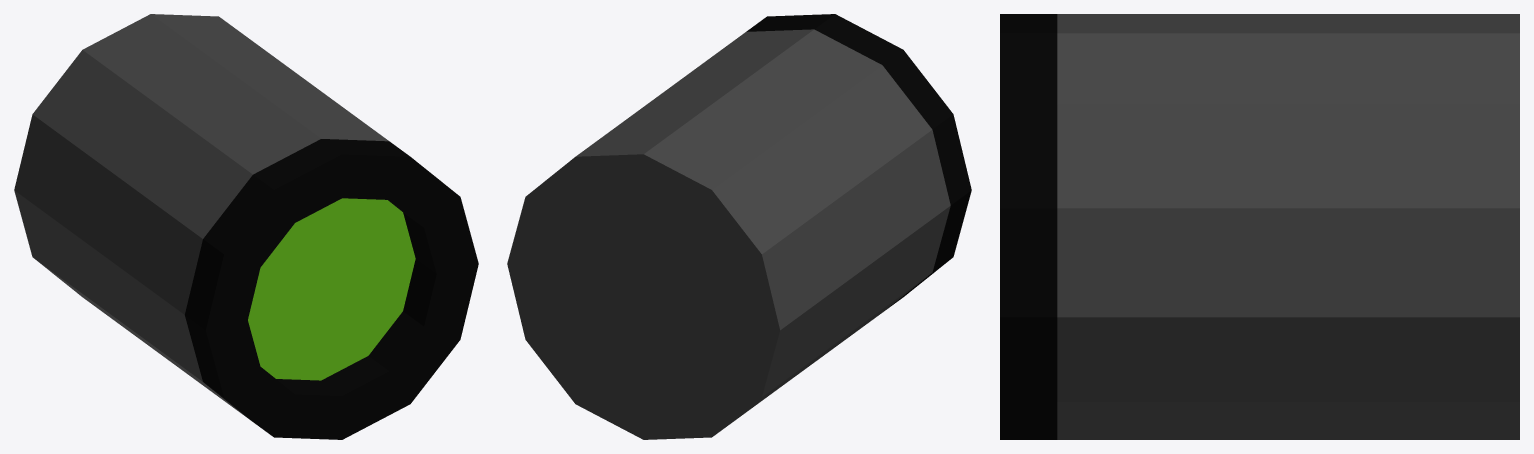
Rendered from Right_Eye.fbx.
3 renders of one model, left to right at view 1: azimuth 30°, elevation 25°; view 2: azimuth 150°, elevation 25°; view 3: azimuth 270°, elevation 25°, orthographic. The views are drawn at different scales.
Visible parts, largest first — view 1: Right_Eye; view 2: Right_Eye; view 3: Right_Eye.
Boxes of the visible parts, x1,y1,x2,y2 form: Right_Eye: [14, 14, 478, 439]; Right_Eye: [507, 14, 971, 439]; Right_Eye: [1000, 14, 1519, 439].
Size of the model in its own units: 20.59 by 20.59 by 25.02.
Materials: 1 (1 with a texture image).
